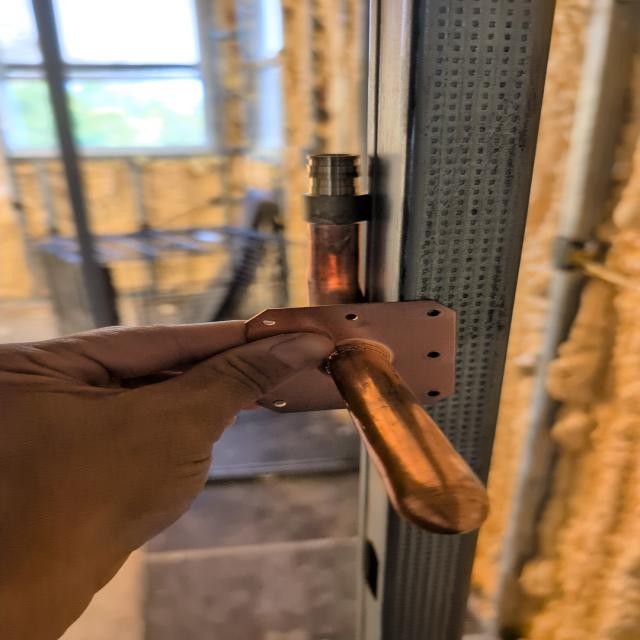wall_flange: (244, 138, 517, 558)
